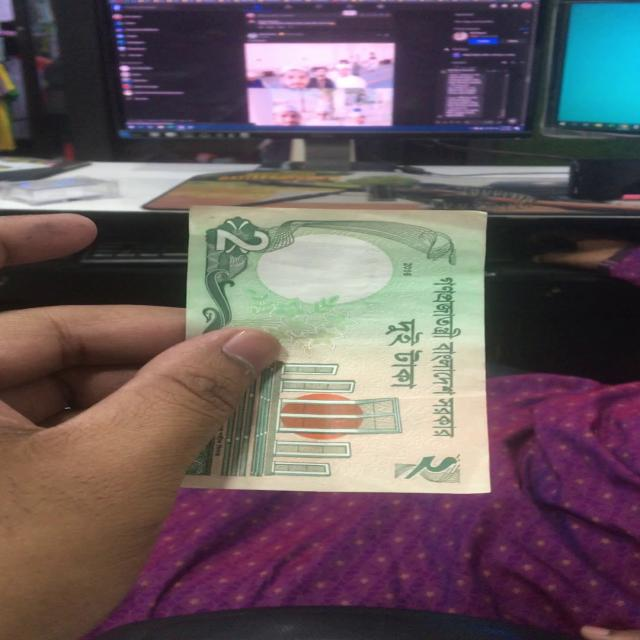Taka: (157, 198, 516, 501)
